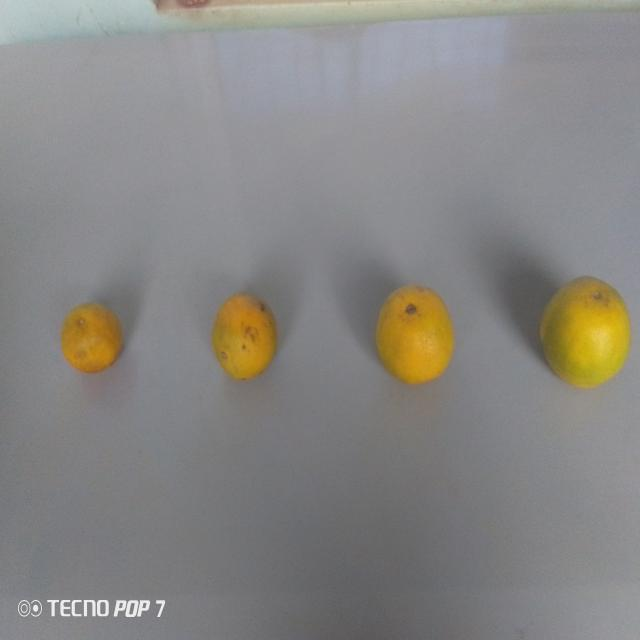Ripe orange: (542, 268, 634, 405), (372, 280, 459, 398), (203, 292, 282, 381), (61, 300, 129, 376)
